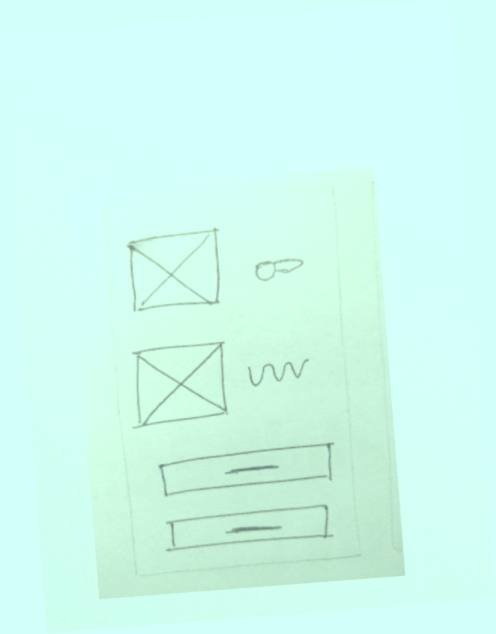button: (150, 439, 340, 502), (152, 501, 338, 557)
image: (122, 225, 230, 324), (125, 337, 234, 434)
switch: (247, 251, 311, 284)
text: (240, 350, 315, 391)
